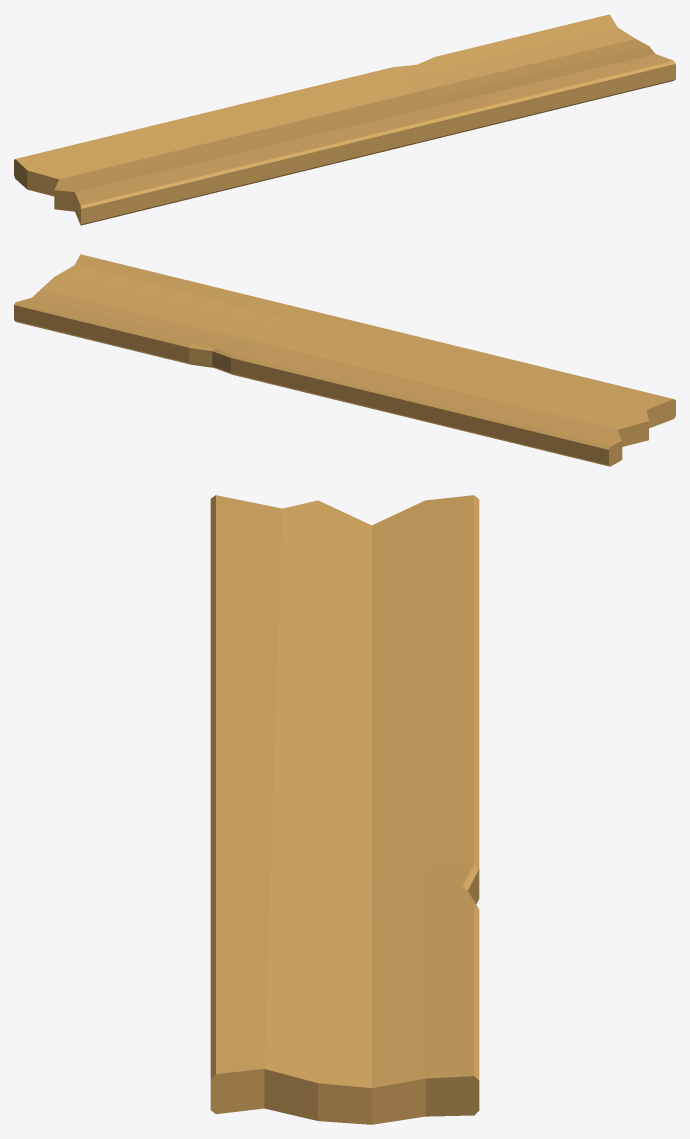
The model's file is Plank.glb.
3 renders of one model, top to bottom at view 1: azimuth 30°, elevation 25°; view 2: azimuth 150°, elevation 25°; view 3: azimuth 270°, elevation 25°, orthographic. The views are drawn at different scales.
Parts seen in each view (by area): view 1: Plank; view 2: Plank; view 3: Plank.
Boxes of the visible parts, x1,y1,x2,y2 form: Plank: (14,14,675,225); Plank: (14,254,675,466); Plank: (210,495,479,1124).
Size of the model in its own units: 5.11 by 0.2054 by 0.9982.
